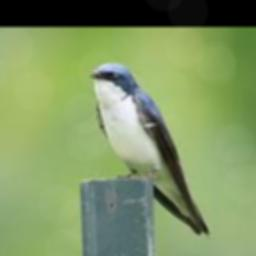Swallow: (86, 63, 210, 235)
